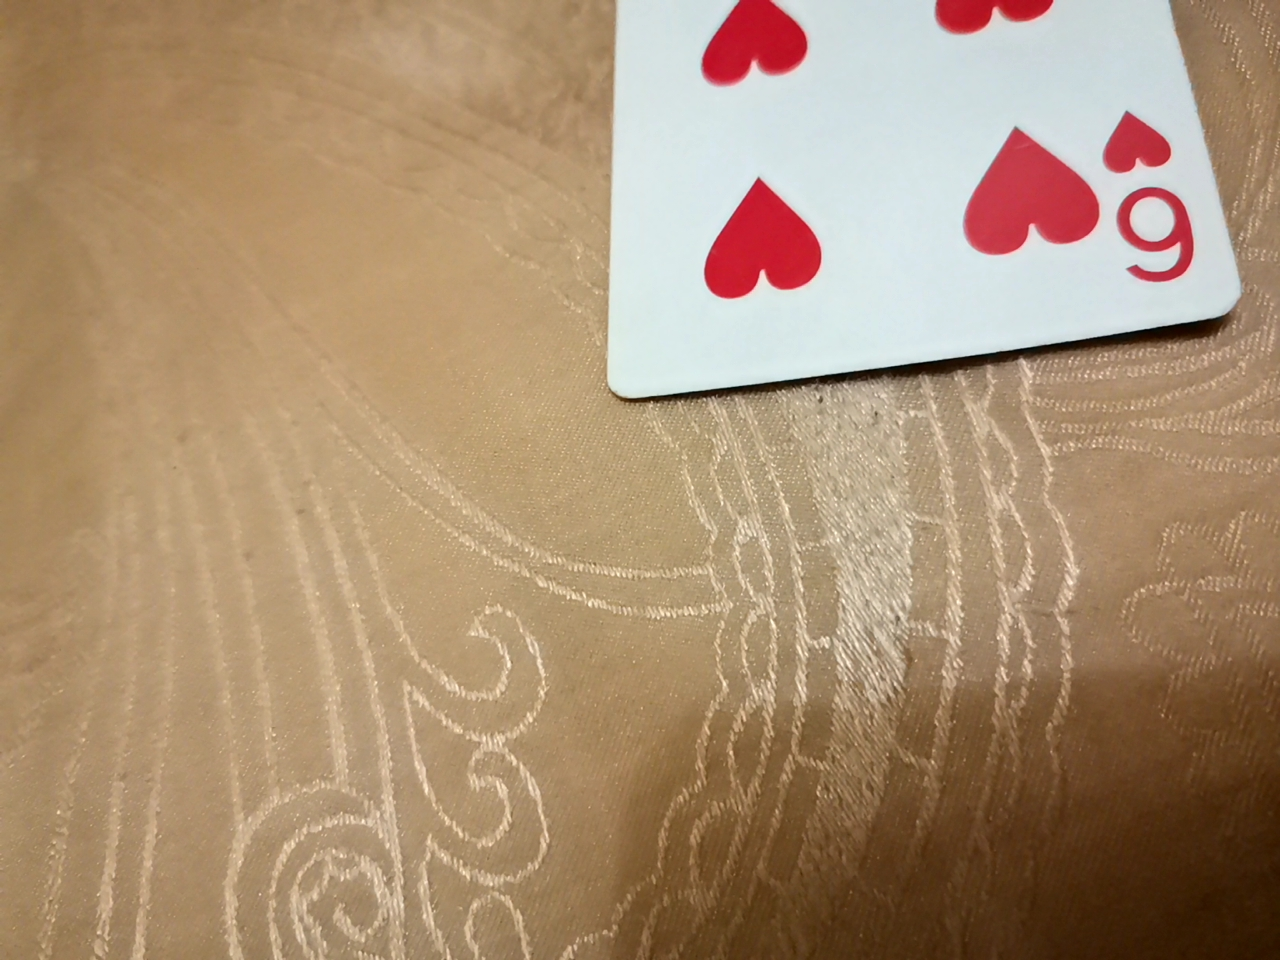hx 6: (608, 0, 1251, 388)
